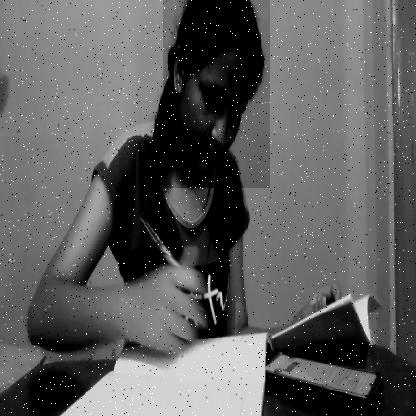Distracted: (163, 0, 270, 188)
